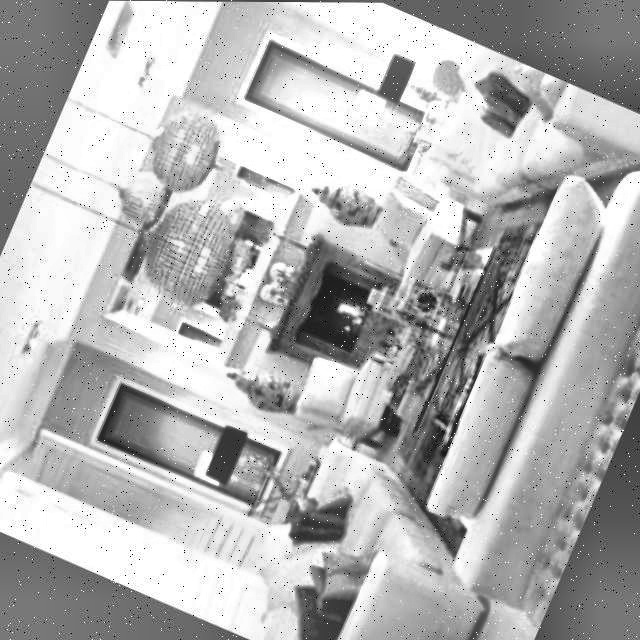Fire: (322, 288, 373, 334)
